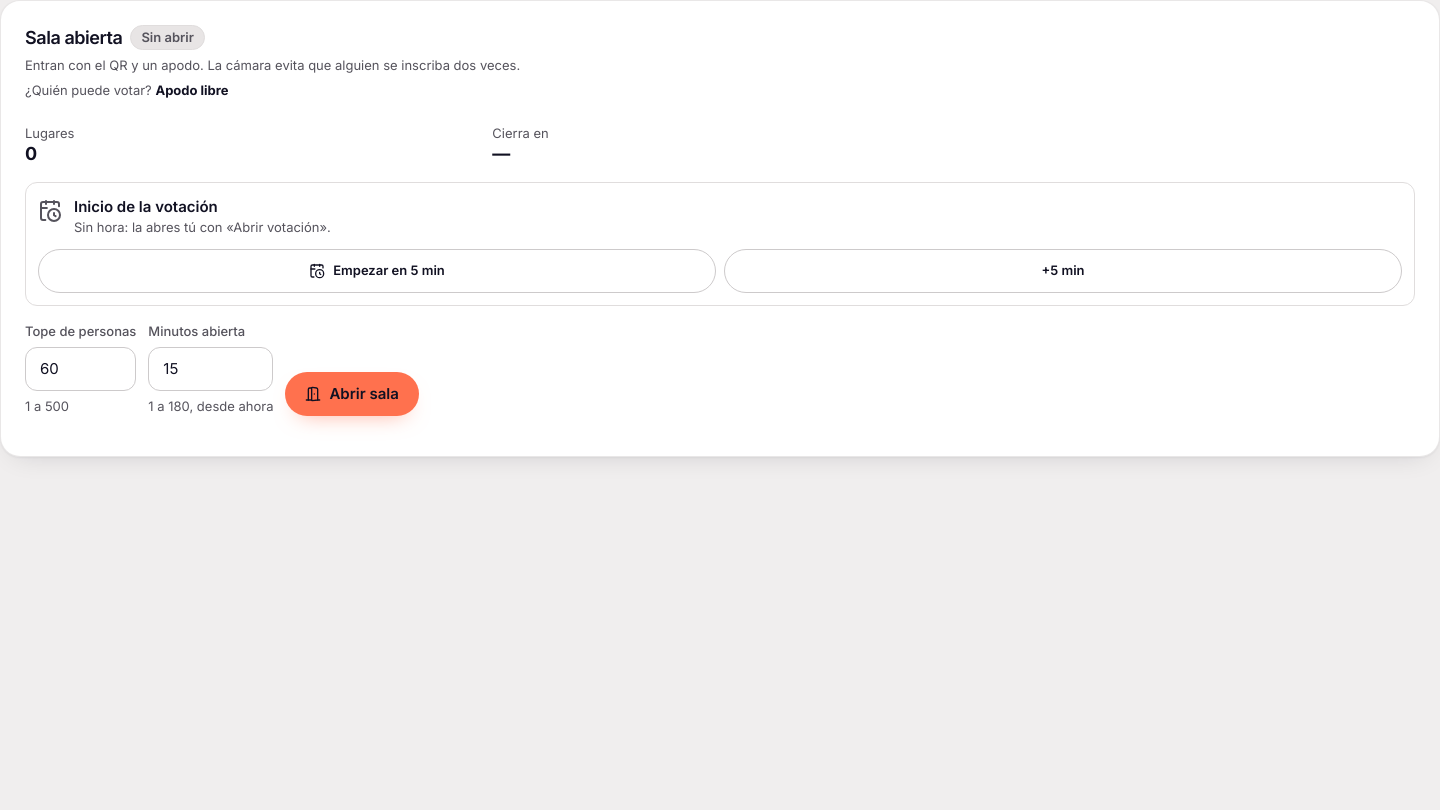
Test: RoomCard (panel del organizador) › con token: muestra código y joinUrl (Bearer) y abre con tope y minutos
Check: the text with test id "room-state" reads "Sin abrir", box [141, 29, 194, 45]
Replace the text in the number field labelled "Tope de personas" with "40" at (81, 369), box [25, 347, 136, 391]
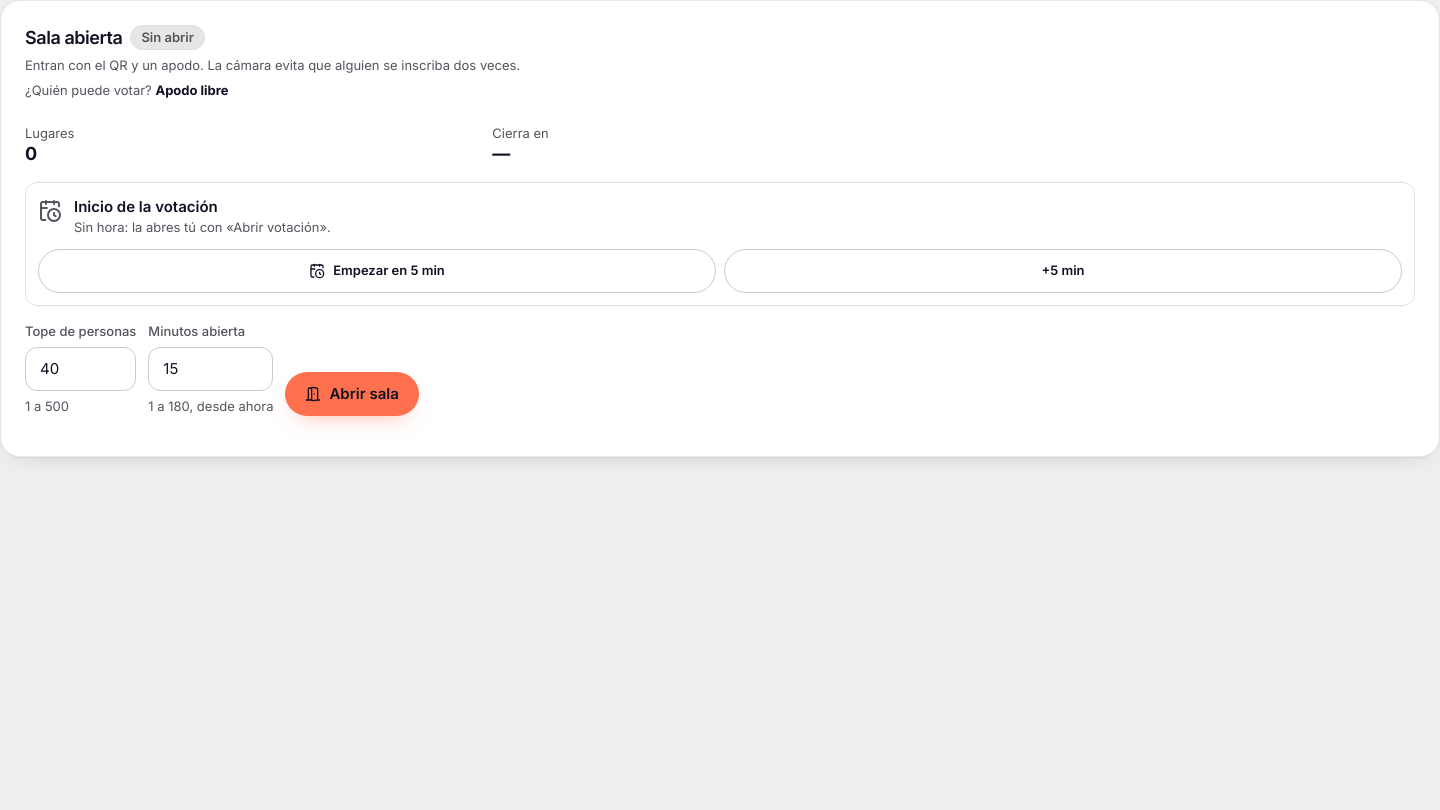
Click the button with test id "room-open" at (352, 394), box [285, 372, 419, 416]
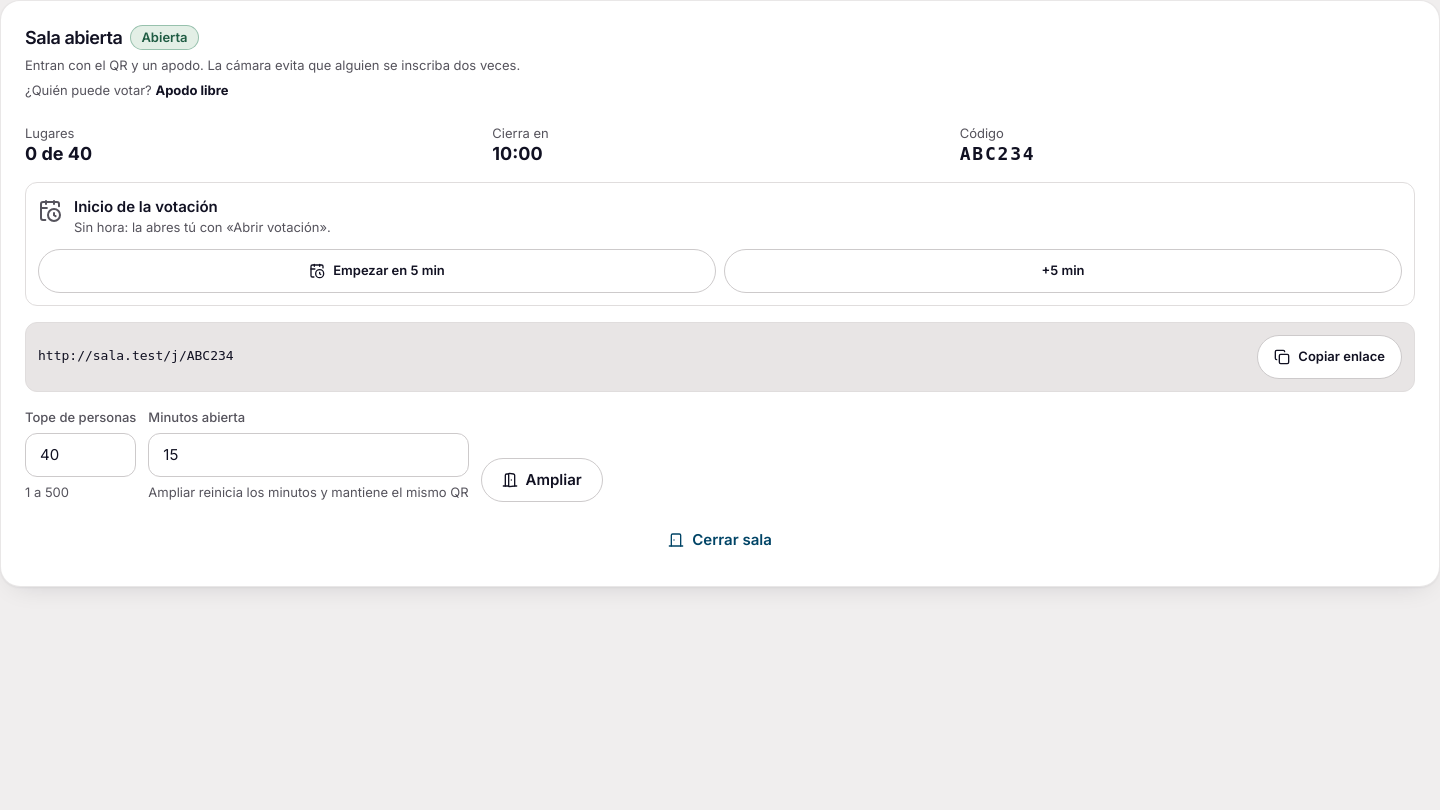
Check: the text with test id "room-code" reads "ABC234", box [960, 143, 1036, 164]
Check: the text with test id "room-join-url" reads "http://sala.test/j/ABC234", box [38, 348, 234, 363]
Check: the button with test id "room-open" reads "Ampliar", box [481, 458, 603, 502]
